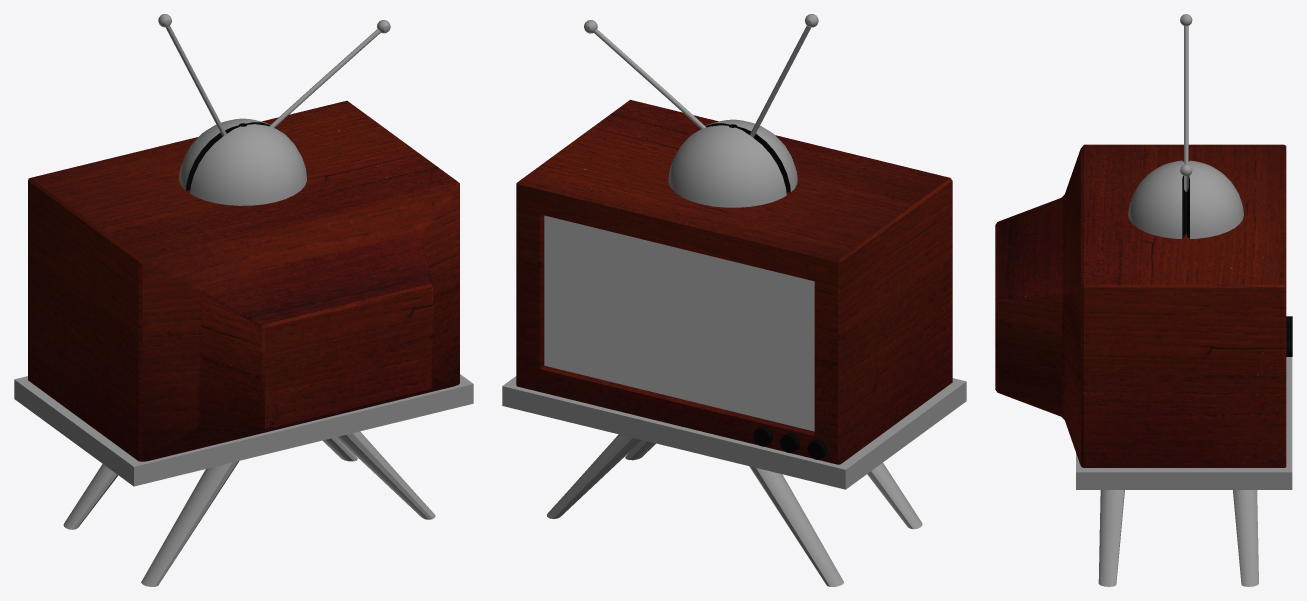
The picture shows the model from 3 angles, left to right: view 1: azimuth 30°, elevation 25°; view 2: azimuth 150°, elevation 25°; view 3: azimuth 270°, elevation 25°; orthographic projection. The views are drawn at different scales.
Visible parts, largest first — view 1: Boîte001; view 2: Boîte001; view 3: Boîte001.
Boxes of the visible parts, left/top/right/bottom form: Boîte001: left=14, top=14, right=473, bottom=586; Boîte001: left=502, top=14, right=966, bottom=586; Boîte001: left=995, top=14, right=1292, bottom=586.
Size of the model in its own units: 52.06 by 43.58 by 76.53.
